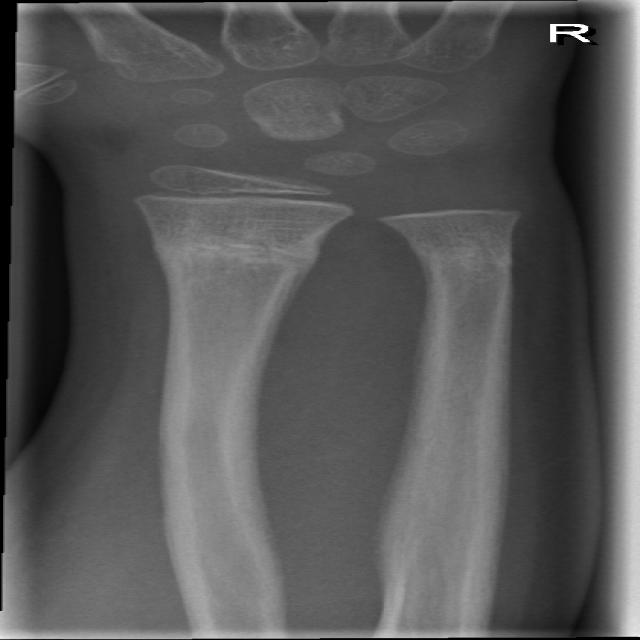radius fracture: (129, 218, 365, 316)
